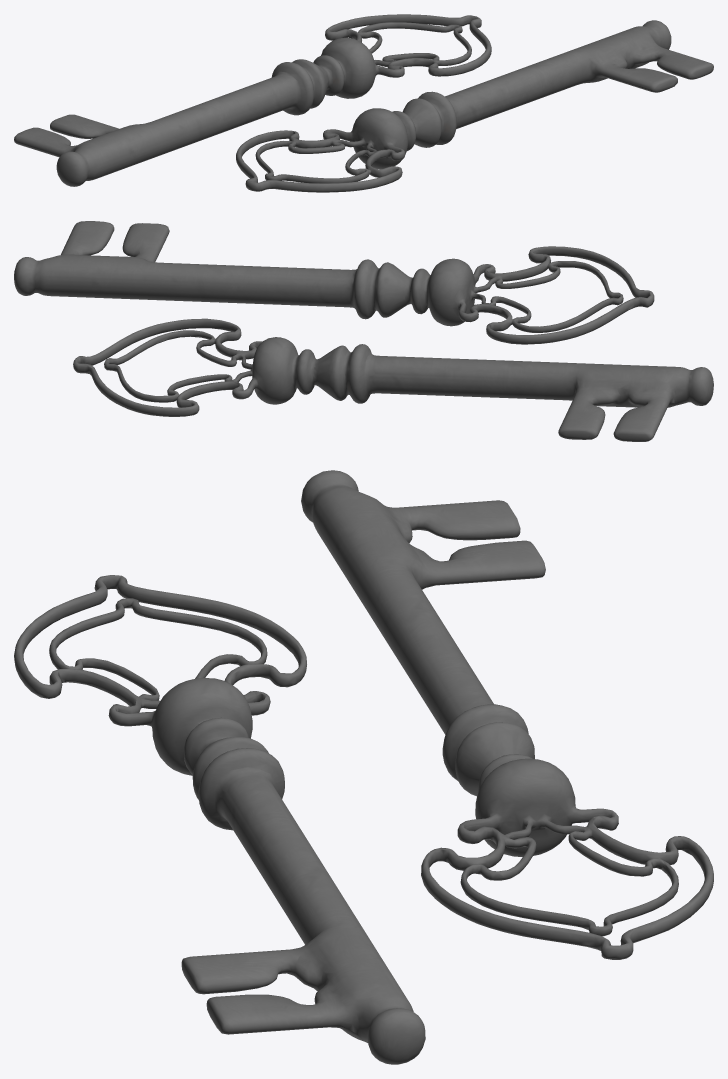
The model's file is 10_oldkey9.fbx.
3 renders of one model, top to bottom at view 1: azimuth 30°, elevation 25°; view 2: azimuth 150°, elevation 25°; view 3: azimuth 270°, elevation 25°, orthographic. The views are drawn at different scales.
Parts seen in each view (by area): view 1: Box.005, Box.007; view 2: Box.007, Box.005; view 3: Box.005, Box.007.
Part boxes in pixels (bbox=[...]): Box.005: bbox=[14, 14, 491, 186]; Box.007: bbox=[236, 20, 713, 192]; Box.007: bbox=[14, 221, 654, 344]; Box.005: bbox=[73, 318, 713, 441]; Box.005: bbox=[301, 470, 713, 959]; Box.007: bbox=[14, 575, 425, 1064].
Size of the model in its own units: 499 by 55.34 by 293.
